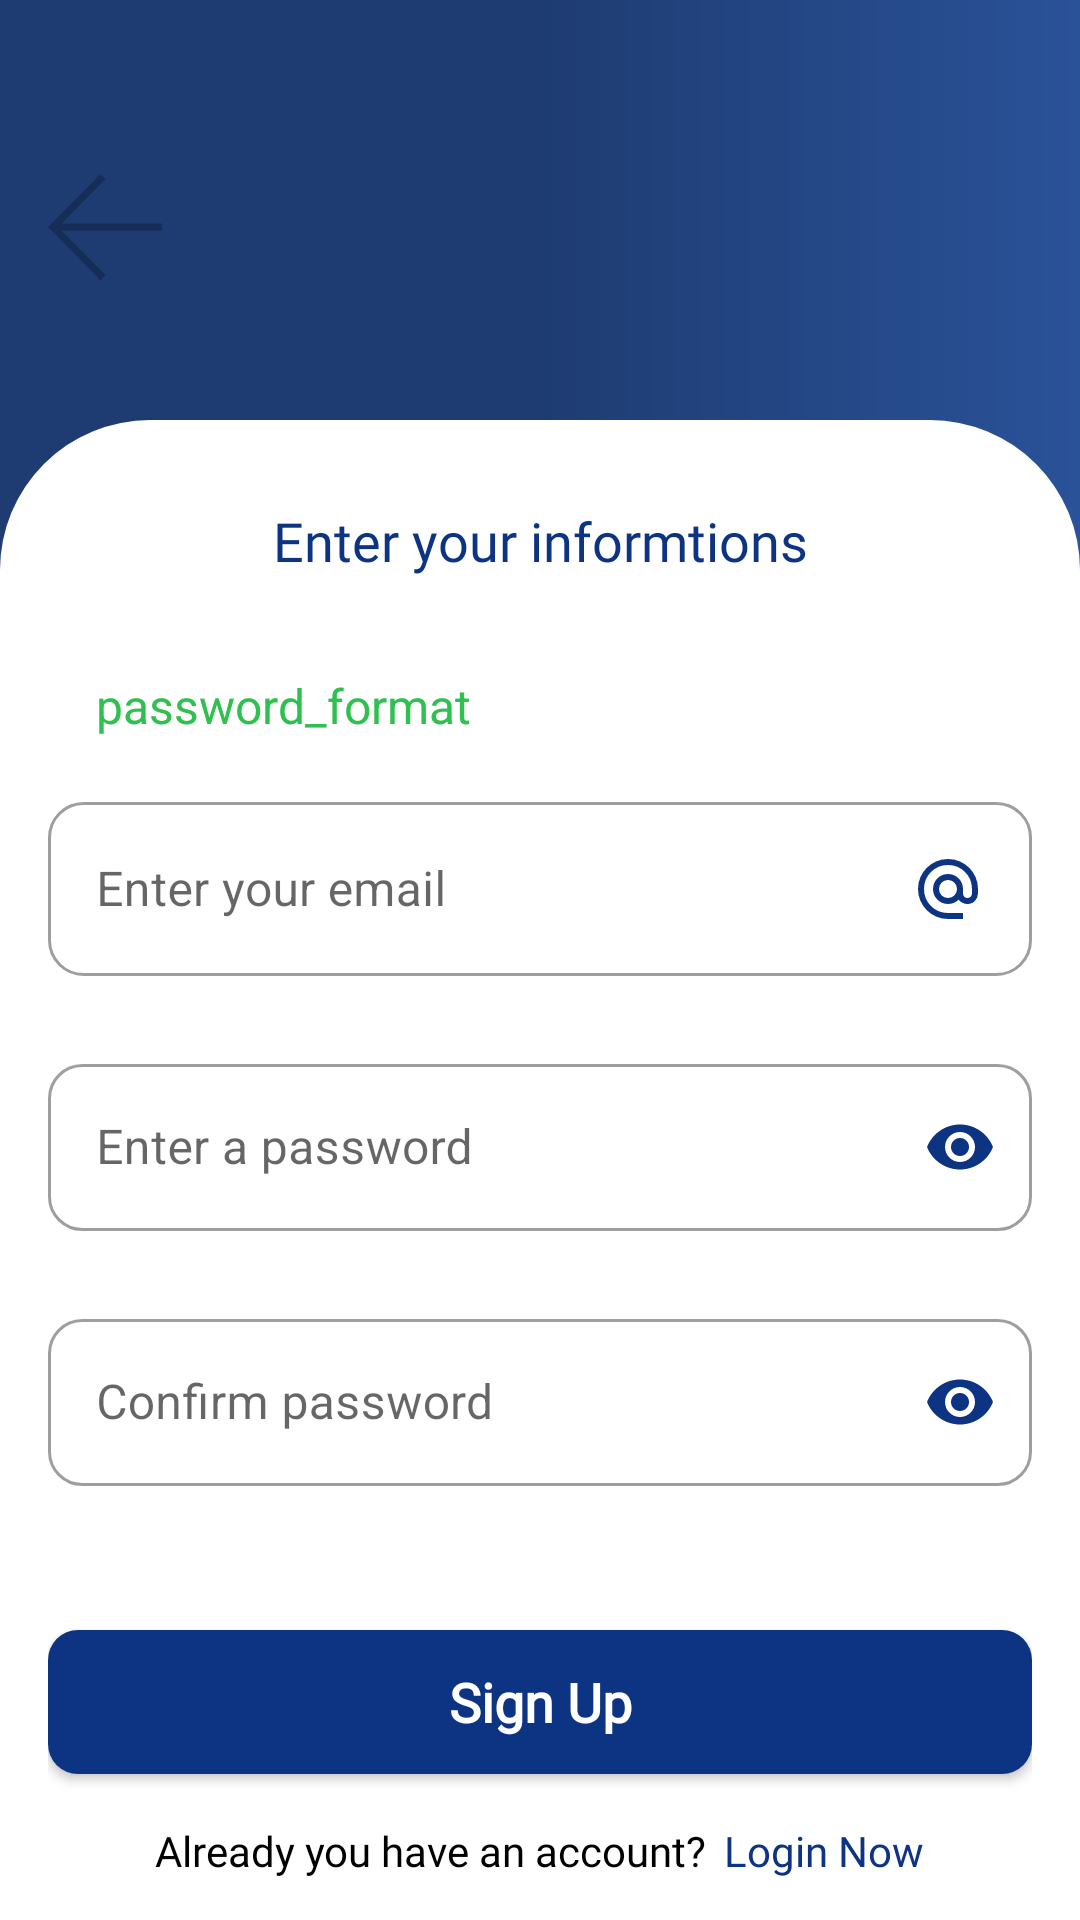

Named icons in this screenshot (1080×1920) and their bounding boxes, box(x1, y1, x2, y2):
back: box(49, 175, 162, 280)
